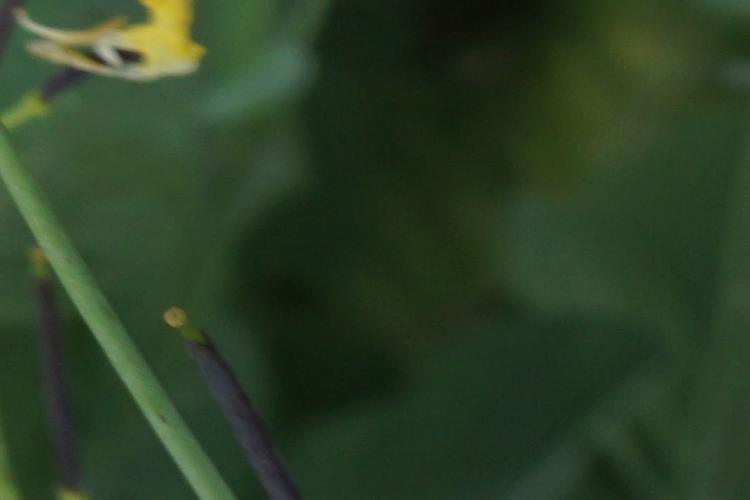pod: (136, 258, 308, 500), (16, 257, 95, 486)
